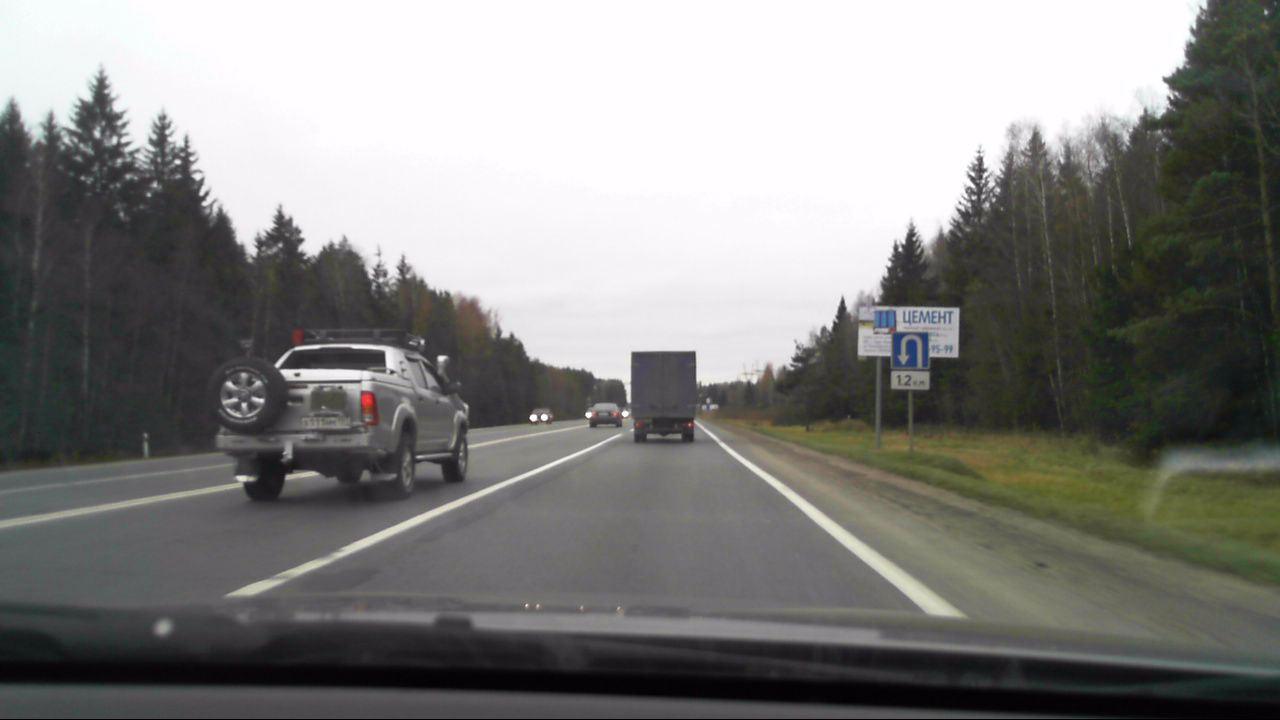U-turn: (893, 332, 928, 369)
